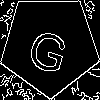G: (25, 20, 73, 76)
